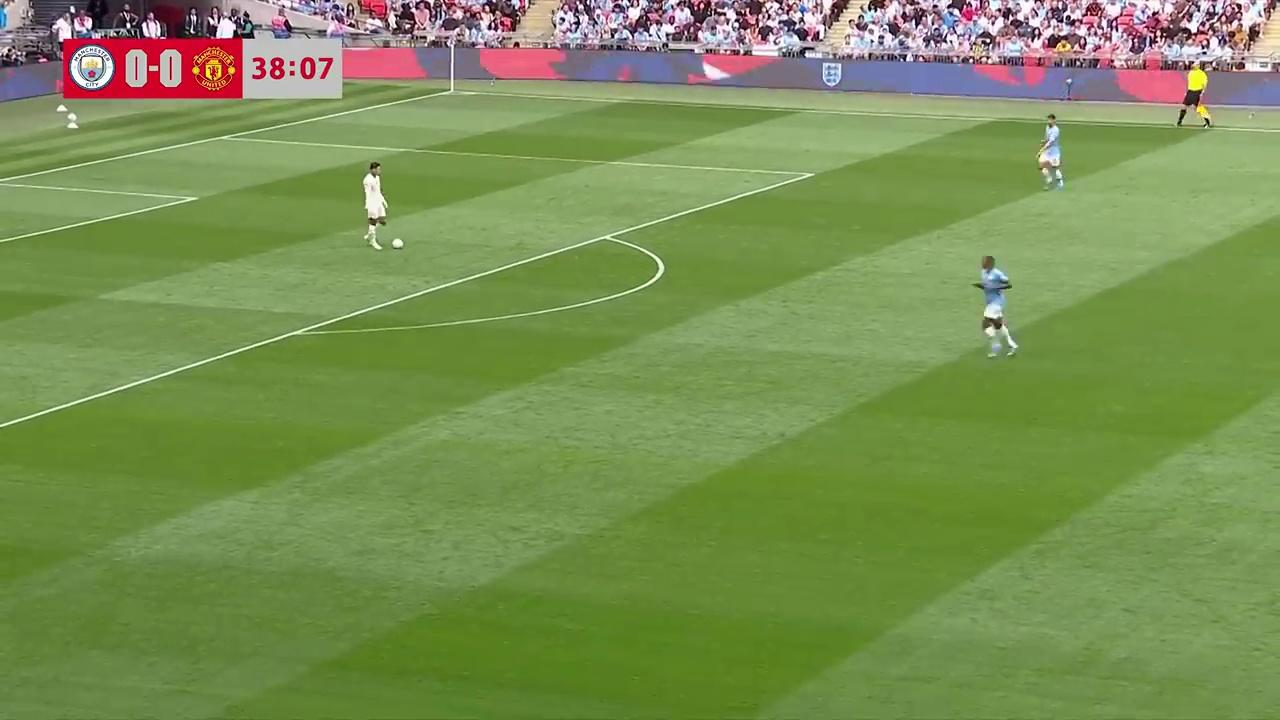ball: (391, 235, 403, 250)
player: (976, 255, 1018, 358), (361, 161, 388, 248), (1037, 115, 1064, 189)
referee: (1176, 66, 1212, 129)
